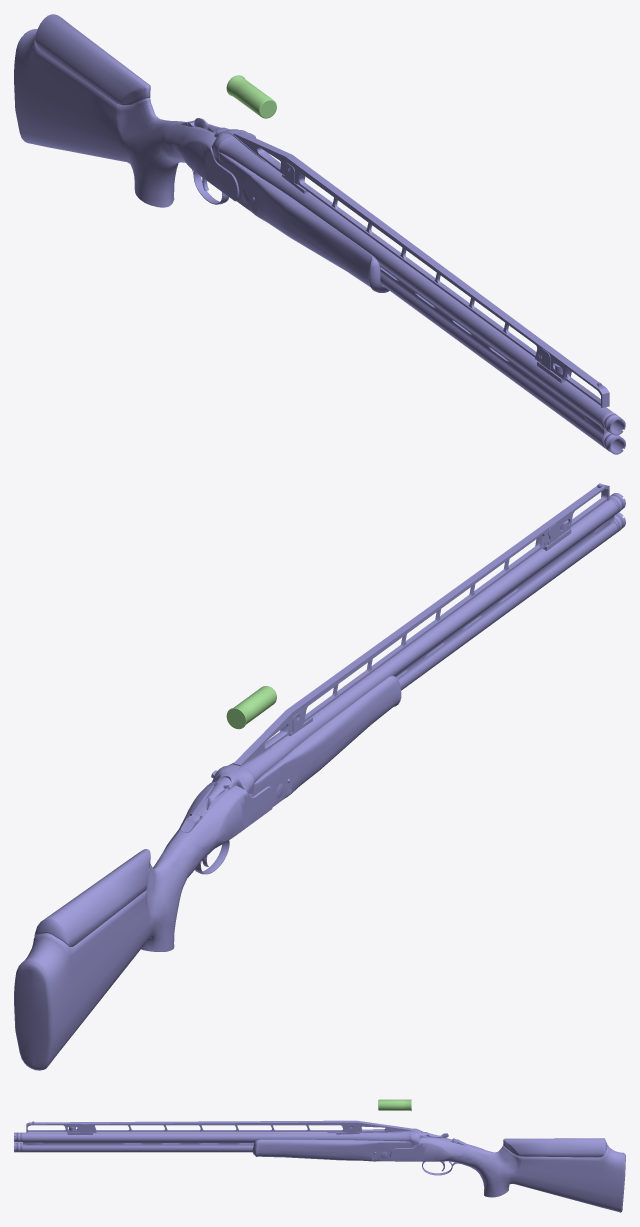
3 renders of one model, top to bottom at view 1: azimuth 30°, elevation 25°; view 2: azimuth 150°, elevation 25°; view 3: azimuth 270°, elevation 25°, orthographic. The views are drawn at different scales.
Parts seen in each view (by area): view 1: WPN_DT22_barrel, WPN_DT22, cal_12G; view 2: WPN_DT22, WPN_DT22_barrel, cal_12G; view 3: WPN_DT22_barrel, WPN_DT22, cal_12G.
Part boxes in pixels (x1,y1,x2,y2): WPN_DT22_barrel: (219,131,625,454); WPN_DT22: (14,14,255,210); cal_12G: (226,75,276,118); WPN_DT22: (14,765,287,1070); WPN_DT22_barrel: (228,483,625,799); cal_12G: (226,686,276,729); WPN_DT22_barrel: (14,1120,411,1161); WPN_DT22: (376,1128,625,1212); cal_12G: (378,1099,411,1110).
Size of the model in its own units: 4.99 by 25.85 by 128.
